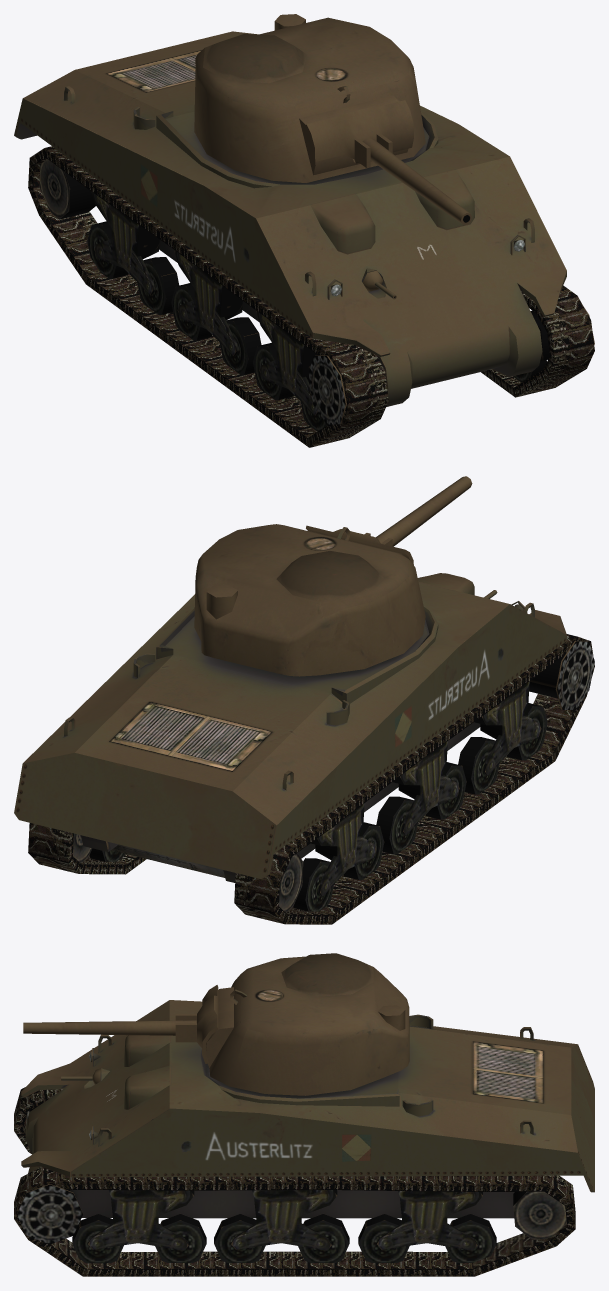
Rendered from shermanfix.fbx.
The picture shows the model from 3 angles, top to bottom: view 1: azimuth 30°, elevation 25°; view 2: azimuth 150°, elevation 25°; view 3: azimuth 270°, elevation 25°; orthographic projection. The views are drawn at different scales.
Parts seen in each view (by area): view 1: Body, Сombat_Tower, Gusineca_01, Gusineca_00, Rolling_ Armour_Mlya)), Wheel16, gunpoint_mlya))), Object01, Wheel14, Wheel12, Wheel11, Wheel15 (+1 smaller); view 2: Body, Сombat_Tower, Gusineca_01, Gusineca_00, Object01, gunpoint_mlya))), Wheel13, Wheel11, Wheel15, Wheel16, Wheel14, Wheel12 (+3 smaller); view 3: Body, Сombat_Tower, Gusineca_00, Wheel02, gunpoint_mlya))), Wheel09, Rolling_ Armour_Mlya)), Wheel04, Wheel06, Wheel08, Wheel07, Wheel05 (+2 smaller).
Part boxes in pixels (box(x1,y1,x2,y2)): Body: box(14, 31, 566, 415); Сombat_Tower: box(194, 14, 425, 182); Gusineca_01: box(28, 146, 388, 447); Gusineca_00: box(481, 285, 594, 397); Rolling_ Armour_Mlya)): box(306, 100, 413, 168); Wheel16: box(39, 159, 95, 219); gunpoint_mlya))): box(362, 138, 472, 224); Object01: box(308, 355, 346, 424); Wheel14: box(137, 257, 179, 314); Wheel12: box(219, 317, 261, 375); Wheel11: box(253, 342, 293, 400); Wheel15: box(87, 221, 128, 278); Body: box(14, 573, 566, 896); Сombat_Tower: box(194, 524, 425, 676); Gusineca_01: box(234, 634, 594, 924); Gusineca_00: box(28, 823, 146, 874); Object01: box(555, 641, 594, 709); gunpoint_mlya))): box(375, 476, 472, 546); Wheel13: box(376, 796, 417, 854); Wheel11: box(458, 737, 499, 794); Wheel15: box(293, 858, 333, 911); Wheel16: box(279, 853, 303, 912); Wheel14: box(343, 822, 384, 879); Wheel12: box(426, 762, 466, 819); Body: box(21, 1000, 594, 1250); Сombat_Tower: box(206, 953, 409, 1095); Gusineca_00: box(14, 1167, 575, 1276); Wheel02: box(17, 1184, 83, 1244); gunpoint_mlya))): box(23, 1020, 196, 1035); Wheel09: box(513, 1191, 566, 1239); Rolling_ Armour_Mlya)): box(175, 985, 218, 1063); Wheel04: box(155, 1214, 206, 1262); Wheel06: box(298, 1214, 349, 1262); Wheel08: box(445, 1214, 496, 1262); Wheel07: box(358, 1214, 409, 1262); Wheel05: box(214, 1214, 265, 1262).
Bounding box in the file's own units: 173 × 180 × 392.
